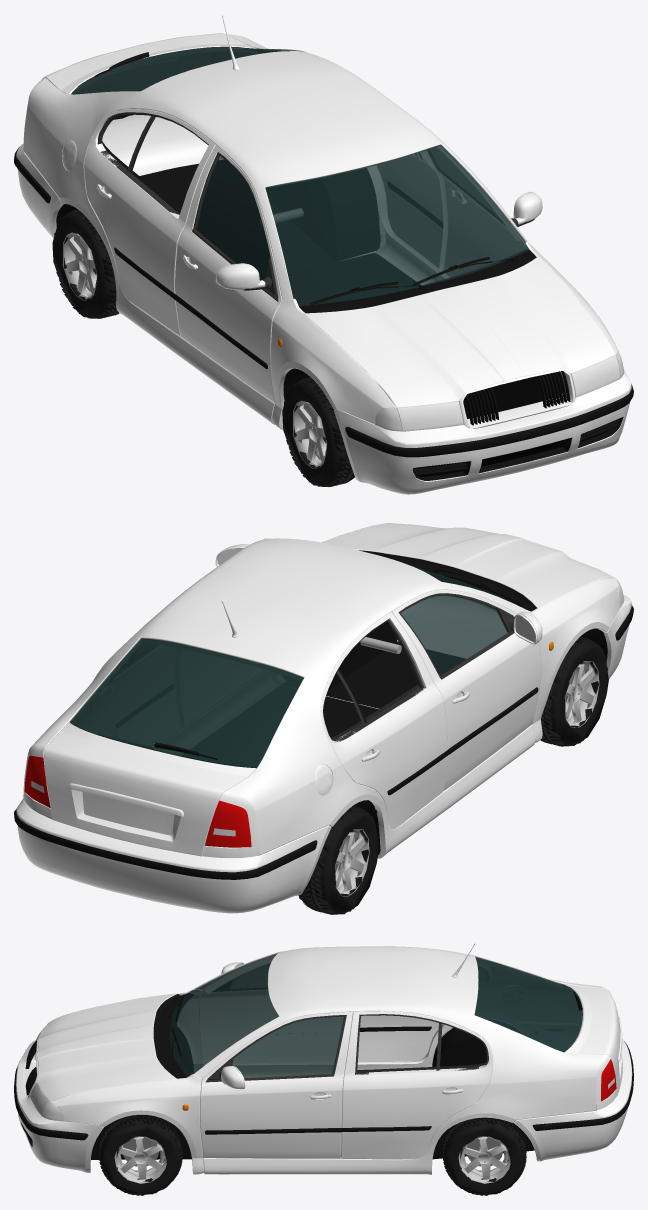
3 renders of one model, top to bottom at view 1: azimuth 30°, elevation 25°; view 2: azimuth 150°, elevation 25°; view 3: azimuth 270°, elevation 25°, orthographic. The views are drawn at different scales.
Parts seen in each view (by area): view 1: body, glass, wheel_FL, wheel_RL; view 2: body, glass, wheel_RL, wheel_FL; view 3: body, glass, wheel_FR, wheel_RR.
Part boxes in pixels (x1,y1,x2,y2): body: (14, 14, 633, 494); glass: (71, 46, 529, 306); wheel_FL: (282, 377, 354, 486); wheel_RL: (52, 209, 119, 318); body: (14, 523, 633, 913); glass: (69, 566, 520, 768); wheel_RL: (298, 805, 378, 914); wheel_FL: (540, 636, 608, 746); body: (14, 943, 633, 1174); glass: (169, 953, 582, 1077); wheel_FR: (99, 1115, 182, 1195); wheel_RR: (443, 1117, 526, 1195).
Size of the model in its own units: 2.05 by 1.67 by 4.57.
